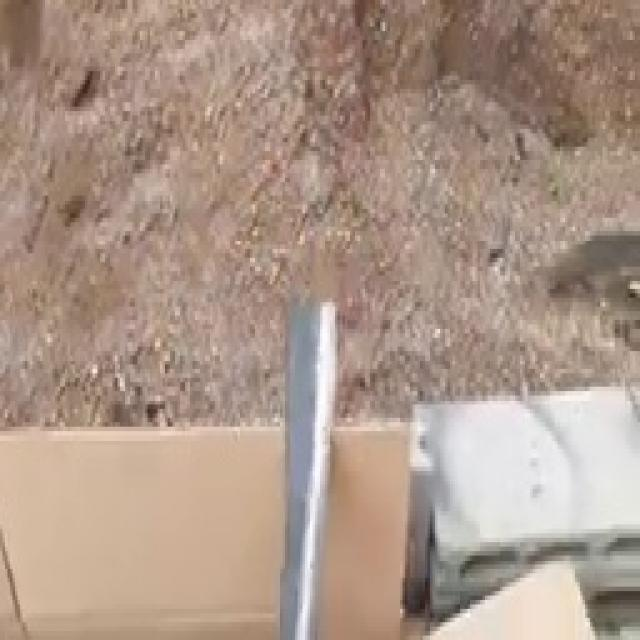eto: (283, 297, 332, 637)
